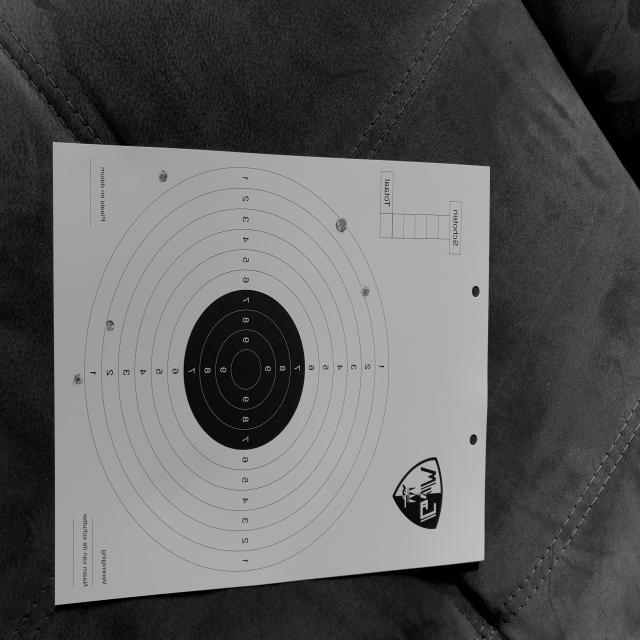0: (72, 373, 84, 387), (158, 170, 168, 182)
1: (336, 218, 347, 234)
2: (105, 318, 115, 333), (360, 284, 370, 297)
Target: (84, 163, 389, 572)
black_contour: (183, 289, 305, 450)
